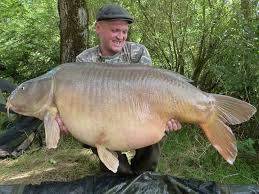carp: (6, 61, 258, 176)
